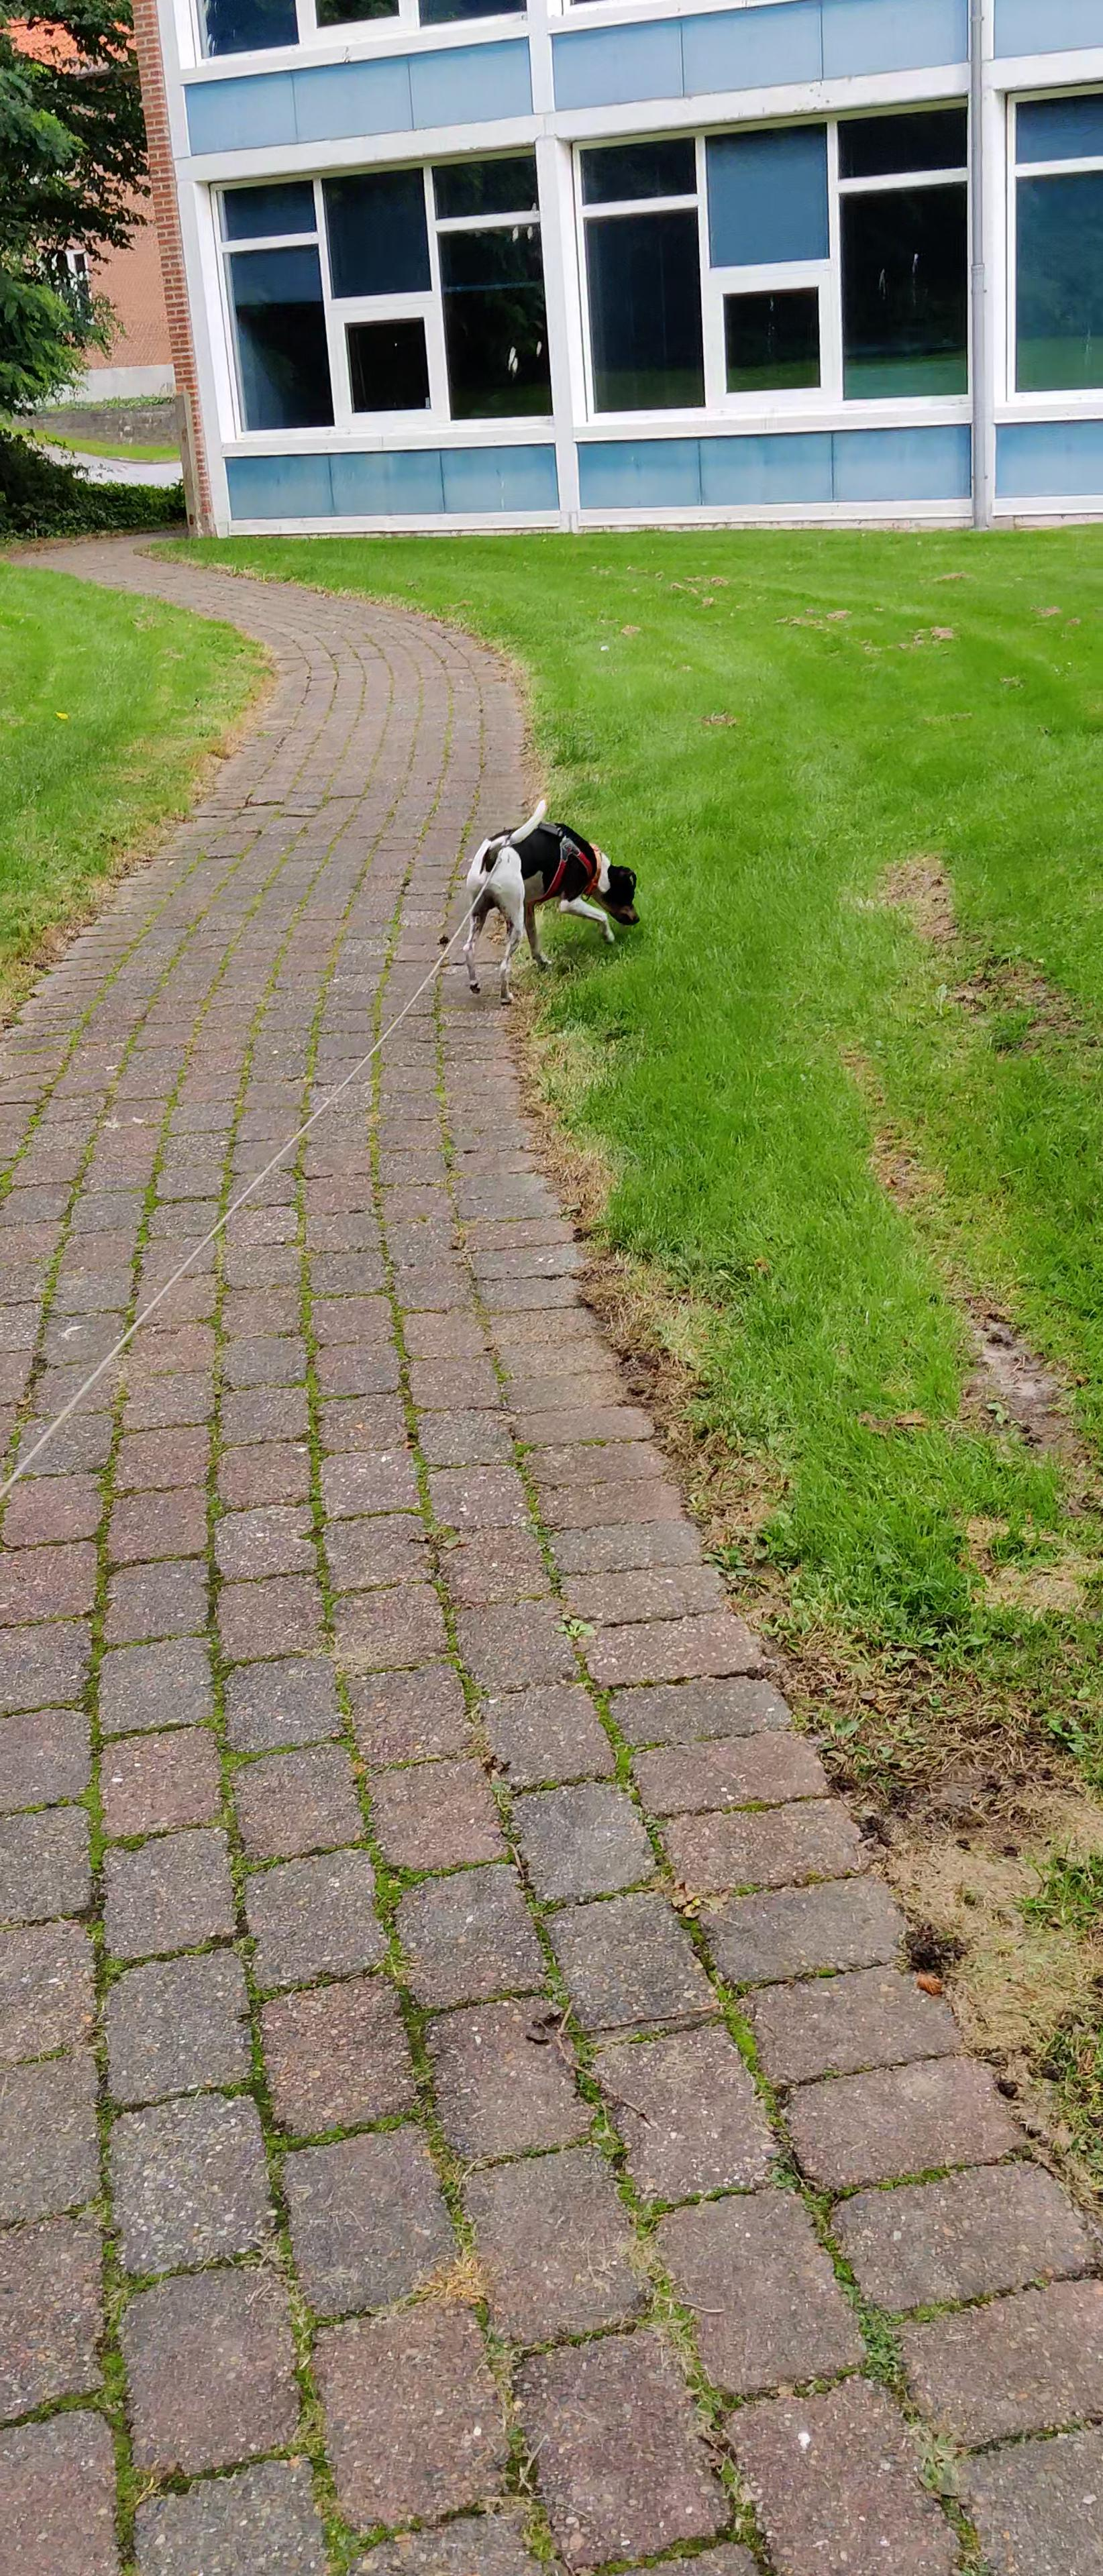Dog: (442, 790, 656, 1010)
